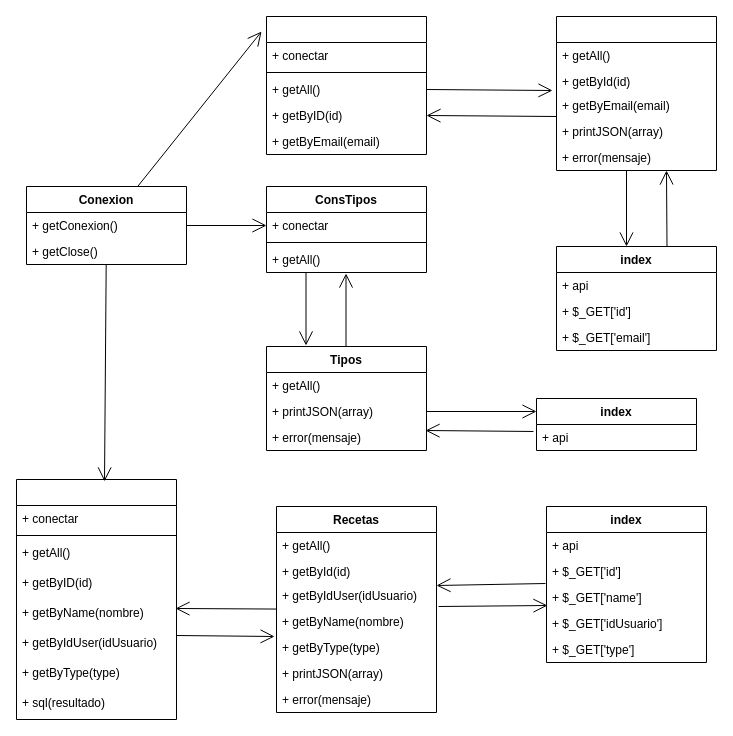
Image size: 733x736. Some labels were removed from this diagram. The box of each missing label's shape, as (x1, y1, x2, y2) in pixels:
Consultas: (16, 478, 176, 720)
ConsUser: (266, 16, 426, 154)
Usuarios: (556, 16, 716, 170)
